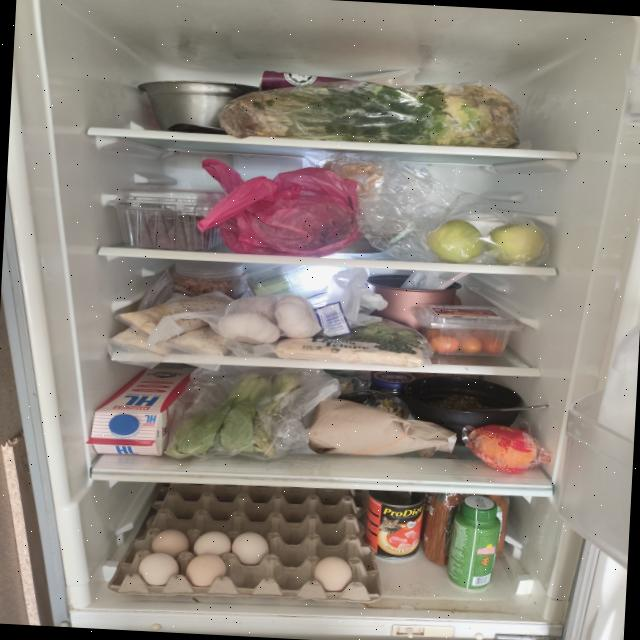apple: (486, 220, 547, 266), (427, 218, 484, 265)
egg: (106, 477, 388, 609)
garlic: (217, 292, 324, 348)
grape: (106, 186, 225, 252)
leafy_greens: (220, 72, 522, 150)
orange: (473, 428, 538, 471)
pakchoy: (166, 368, 302, 466)
tempeh: (111, 286, 237, 360), (274, 336, 426, 368)
unknown_bag: (195, 158, 365, 260)
